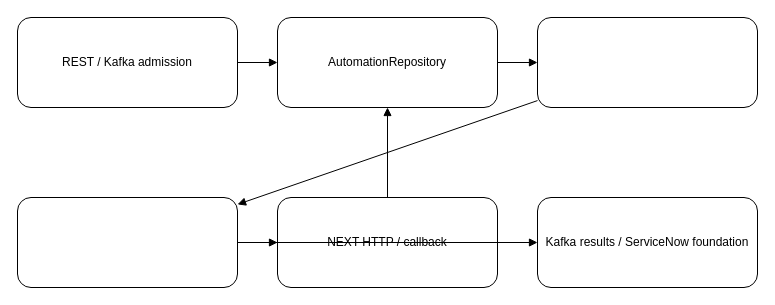
The diagram is 775 pixels wide and 305 high, and some of its shapes have lost their labels. The box of each missing label's shape, as (x1, y1, x2, y2) in pixels:
CacfRuntime: (16, 196, 238, 288)
PostgreSQL: execution / evidence / dispatch / outbox: (536, 16, 758, 108)
